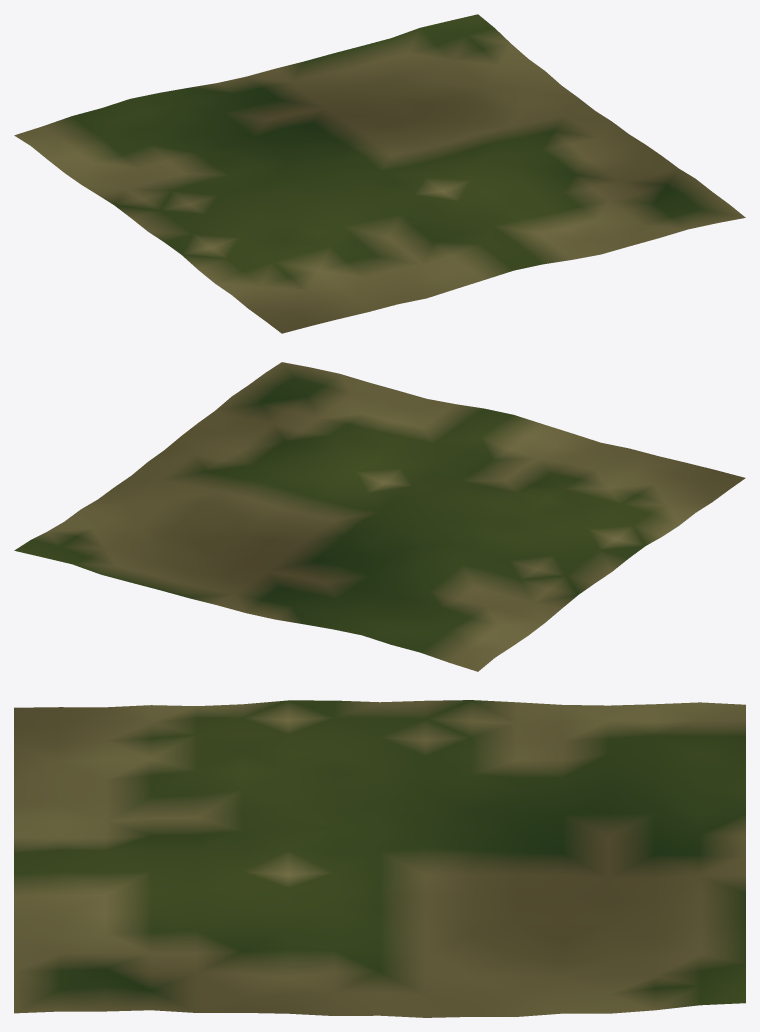
The model's file is terrain_lod1_-2_2.obj.
The picture shows the model from 3 angles, top to bottom: view 1: azimuth 30°, elevation 25°; view 2: azimuth 150°, elevation 25°; view 3: azimuth 270°, elevation 25°; orthographic projection. The views are drawn at different scales.
Parts seen in each view (by area): view 1: terrain_lod1_-2_2; view 2: terrain_lod1_-2_2; view 3: terrain_lod1_-2_2.
Boxes of the visible parts, x1,y1,x2,y2 form: terrain_lod1_-2_2: (14,14,745,333); terrain_lod1_-2_2: (14,362,745,671); terrain_lod1_-2_2: (14,700,745,1017).
Size of the model in its own units: 128 by 3.45 by 128.
